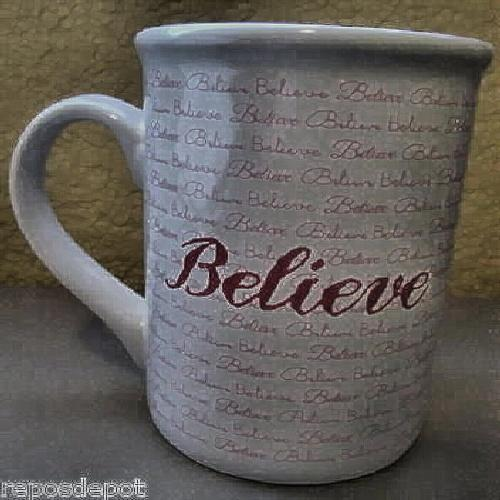mug: (29, 19, 471, 458)
